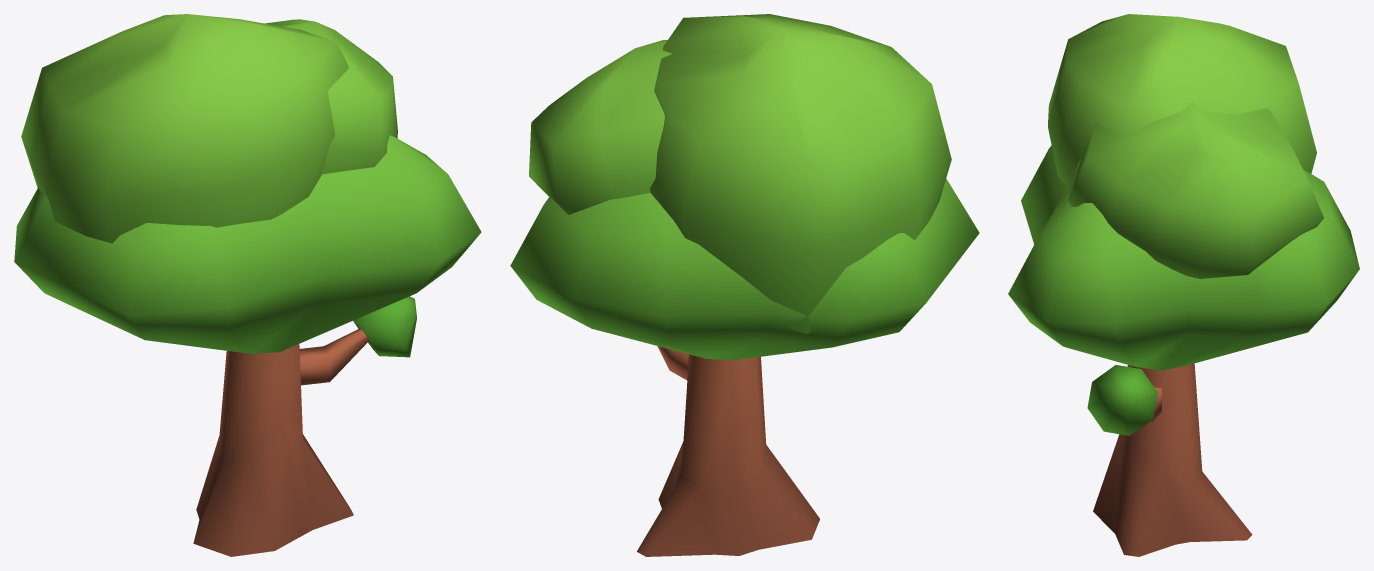
Rendered from Resource_Tree_1_Full.FBX.
The picture shows the model from 3 angles, left to right: view 1: azimuth 30°, elevation 25°; view 2: azimuth 150°, elevation 25°; view 3: azimuth 270°, elevation 25°; orthographic projection. The views are drawn at different scales.
Parts seen in each view (by area): view 1: Resource_Tree_1_Full; view 2: Resource_Tree_1_Full; view 3: Resource_Tree_1_Full.
Part boxes in pixels (bbox=[...]): Resource_Tree_1_Full: bbox=[14, 14, 481, 556]; Resource_Tree_1_Full: bbox=[510, 14, 979, 556]; Resource_Tree_1_Full: bbox=[1008, 14, 1359, 556].
Size of the model in its own units: 100 by 127 by 85.15.
